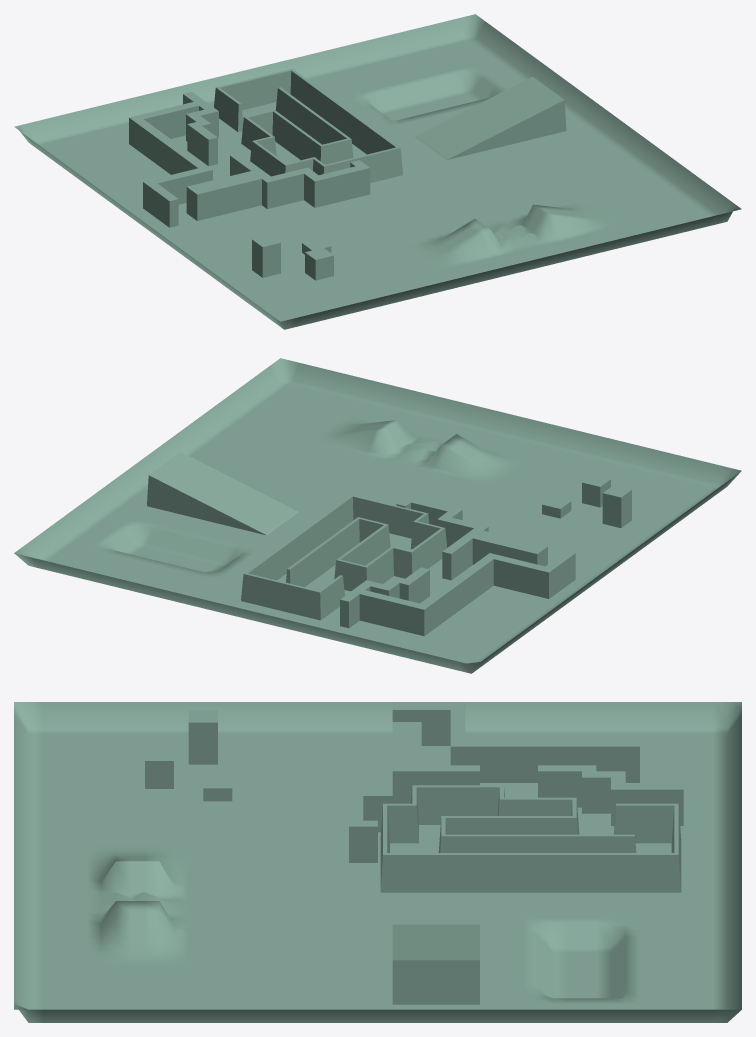
File: skatepark.fbx
3 renders of one model, top to bottom at view 1: azimuth 30°, elevation 25°; view 2: azimuth 150°, elevation 25°; view 3: azimuth 270°, elevation 25°, orthographic. The views are drawn at different scales.
Parts seen in each view (by area): view 1: pPlane1; view 2: pPlane1; view 3: pPlane1.
Part boxes in pixels (bbox=[...]): pPlane1: bbox=[14, 14, 741, 329]; pPlane1: bbox=[14, 358, 741, 673]; pPlane1: bbox=[14, 702, 741, 1022].
Bounding box in the file's own units: 16.88 × 1.5 × 16.88.
